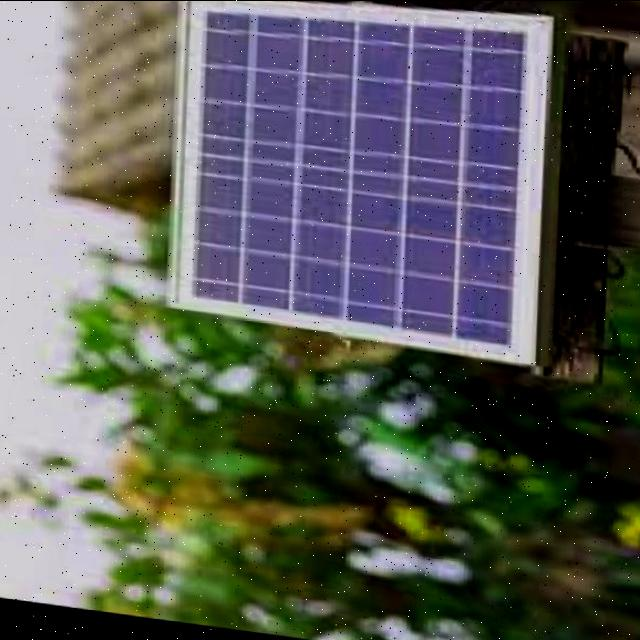Normal Solar Panel: (162, 0, 562, 358)
